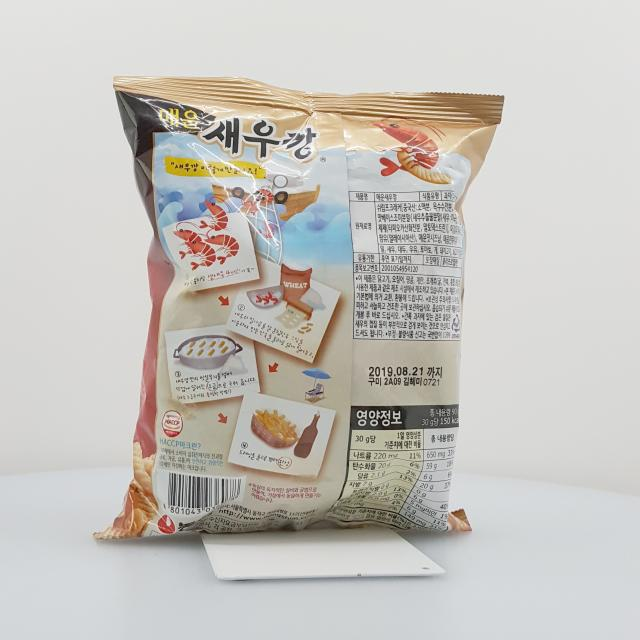-90G: (93, 77, 506, 542)
